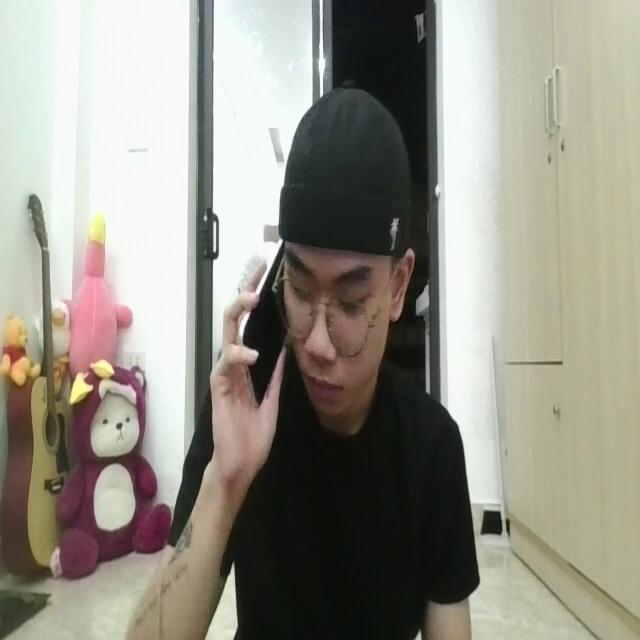phone: (231, 222, 295, 406)
student: (99, 90, 472, 640)
